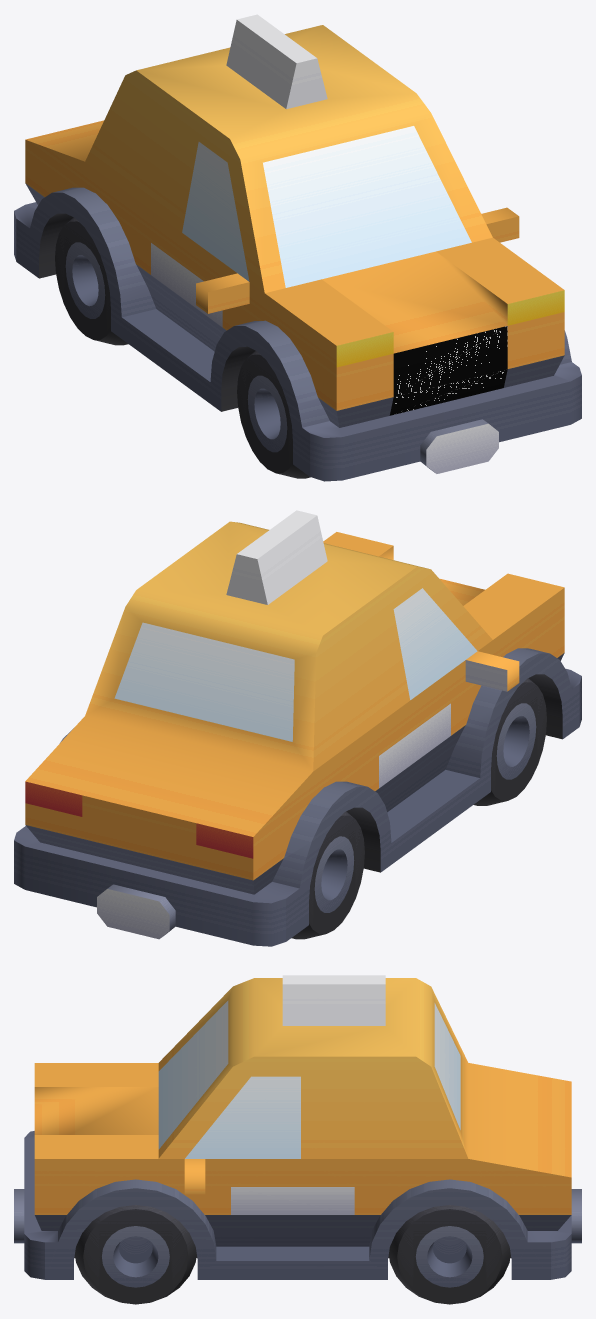
Rendered from taxi.glb.
3 views of the same model, one above another, from view 1: azimuth 30°, elevation 25°; view 2: azimuth 150°, elevation 25°; view 3: azimuth 270°, elevation 25° (orthographic). The views are drawn at different scales.
Parts seen in each view (by area): view 1: body, wheel-front-right, wheel-back-right; view 2: body, wheel-back-right, wheel-front-right; view 3: body, wheel-back-left, wheel-front-left.
Part boxes in pixels (bbox=[...]): body: bbox=[14, 14, 581, 481]; wheel-front-right: bbox=[237, 350, 310, 478]; wheel-back-right: bbox=[55, 217, 128, 345]; body: bbox=[14, 510, 581, 946]; wheel-back-right: bbox=[291, 811, 364, 939]; wheel-front-right: bbox=[473, 678, 546, 805]; body: bbox=[14, 975, 581, 1279]; wheel-back-left: bbox=[388, 1205, 510, 1304]; wheel-front-left: bbox=[75, 1205, 196, 1304].
Size of the model in its own units: 1.5 by 1.5 by 2.75.
Materials: 1 (1 with a texture image).
